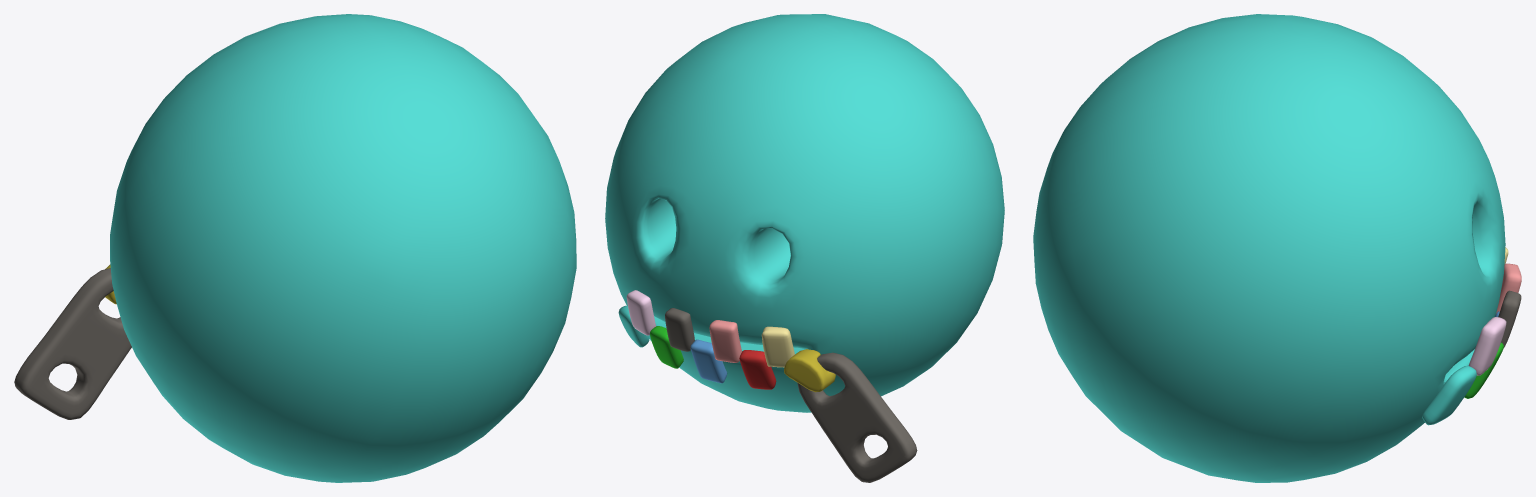
The model's file is emojis_zipMouth.fbx.
3 renders of one model, left to right at view 1: azimuth 30°, elevation 25°; view 2: azimuth 150°, elevation 25°; view 3: azimuth 270°, elevation 25°, orthographic. The views are drawn at different scales.
Parts seen in each view (by area): view 1: Group29051; view 2: Group29051; view 3: Group29051.
Part boxes in pixels (x1=…): Group29051: x1=14, y1=14, x2=576, y2=482; Group29051: x1=605, y1=14, x2=1004, y2=482; Group29051: x1=1033, y1=14, x2=1521, y2=482.
Size of the model in its own units: 4743 by 4494 by 4665.
